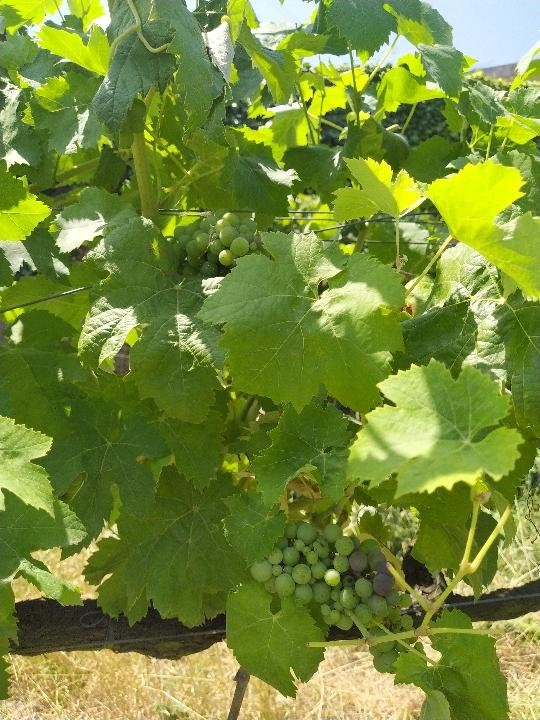grape: (248, 521, 422, 674)
